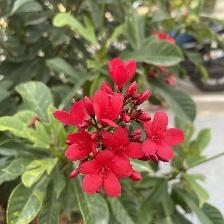jatropha: (81, 149, 133, 198), (143, 110, 186, 166)
